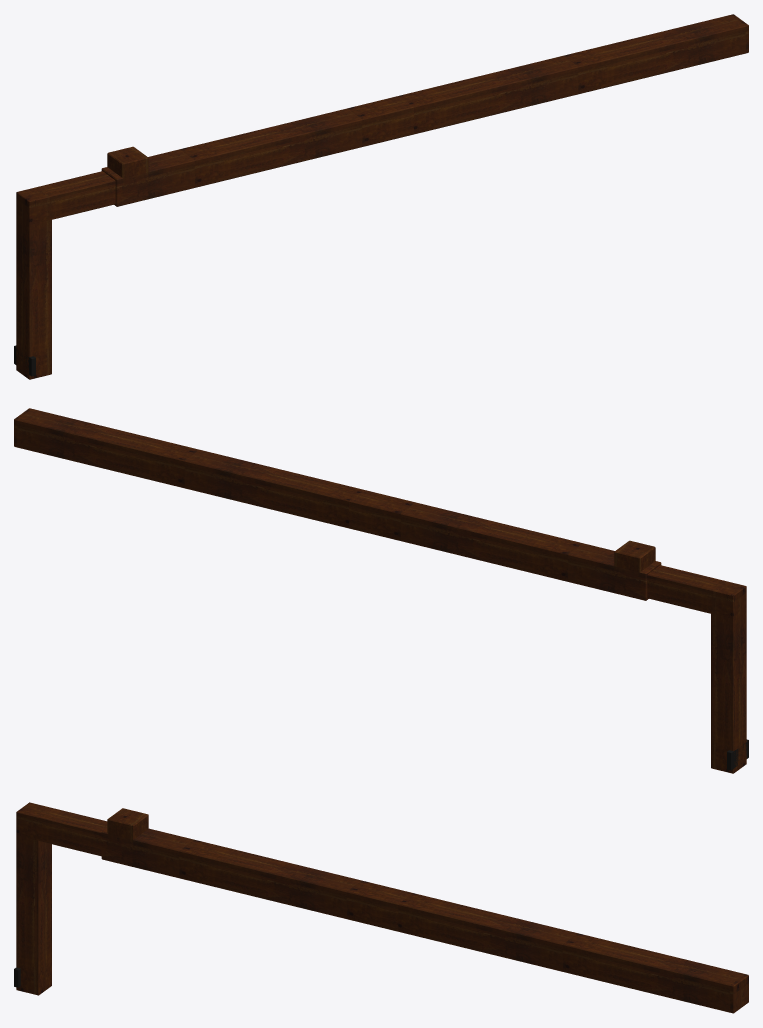
File: roof-tie-490.glb
3 renders of one model, top to bottom at view 1: azimuth 30°, elevation 25°; view 2: azimuth 150°, elevation 25°; view 3: azimuth 330°, elevation 25°, orthographic.
Parts seen in each view (by area): view 1: roof-tie-490; view 2: roof-tie-490; view 3: roof-tie-490.
Part boxes in pixels (left/top/right/bottom): roof-tie-490: left=14, top=14, right=748, bottom=379; roof-tie-490: left=14, top=408, right=748, bottom=773; roof-tie-490: left=14, top=802, right=748, bottom=1013.
Size of the model in its own units: 3.75 by 0.97 by 0.16.
1 material, 1 textured.
